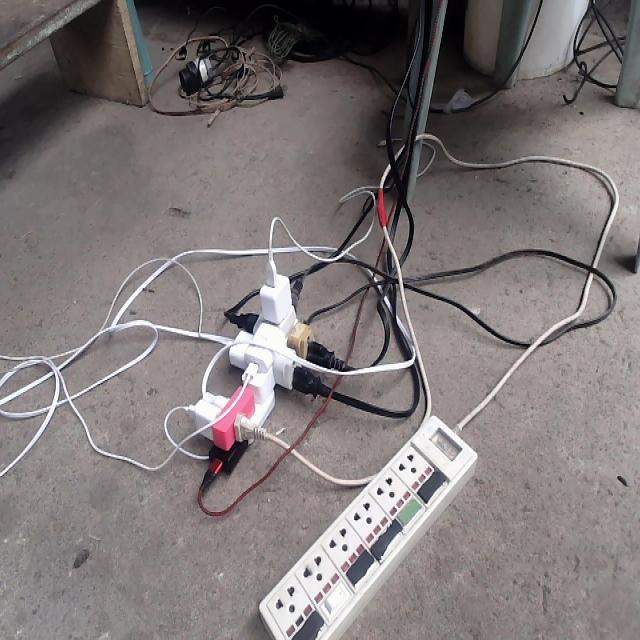-: (186, 266, 315, 474)
